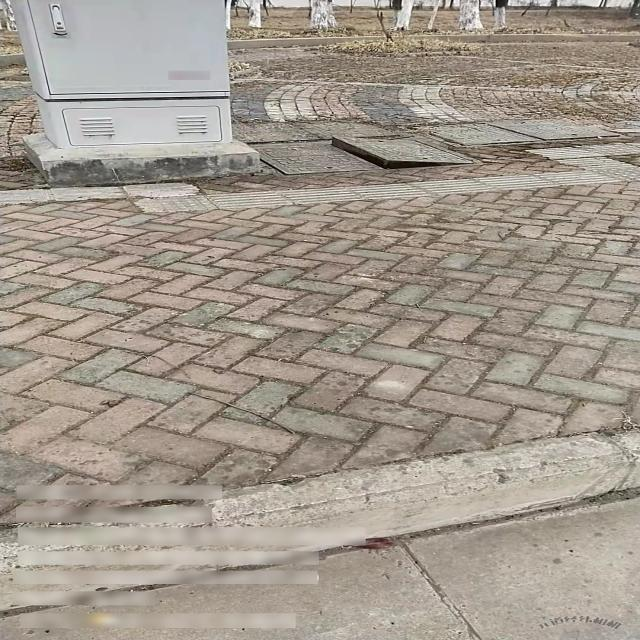Faulty: (244, 135, 480, 175)
Good: (412, 118, 640, 152)
